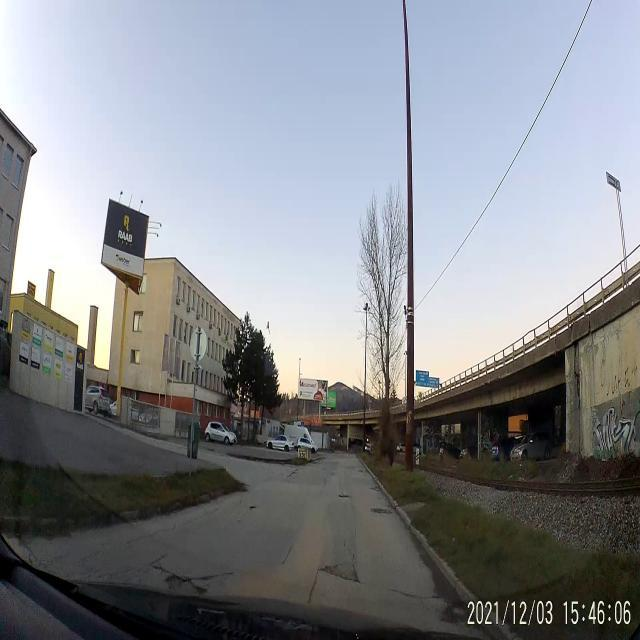Manhole: (370, 504, 390, 518)
Pothole: (161, 570, 208, 599), (318, 558, 362, 586), (335, 490, 355, 504)
